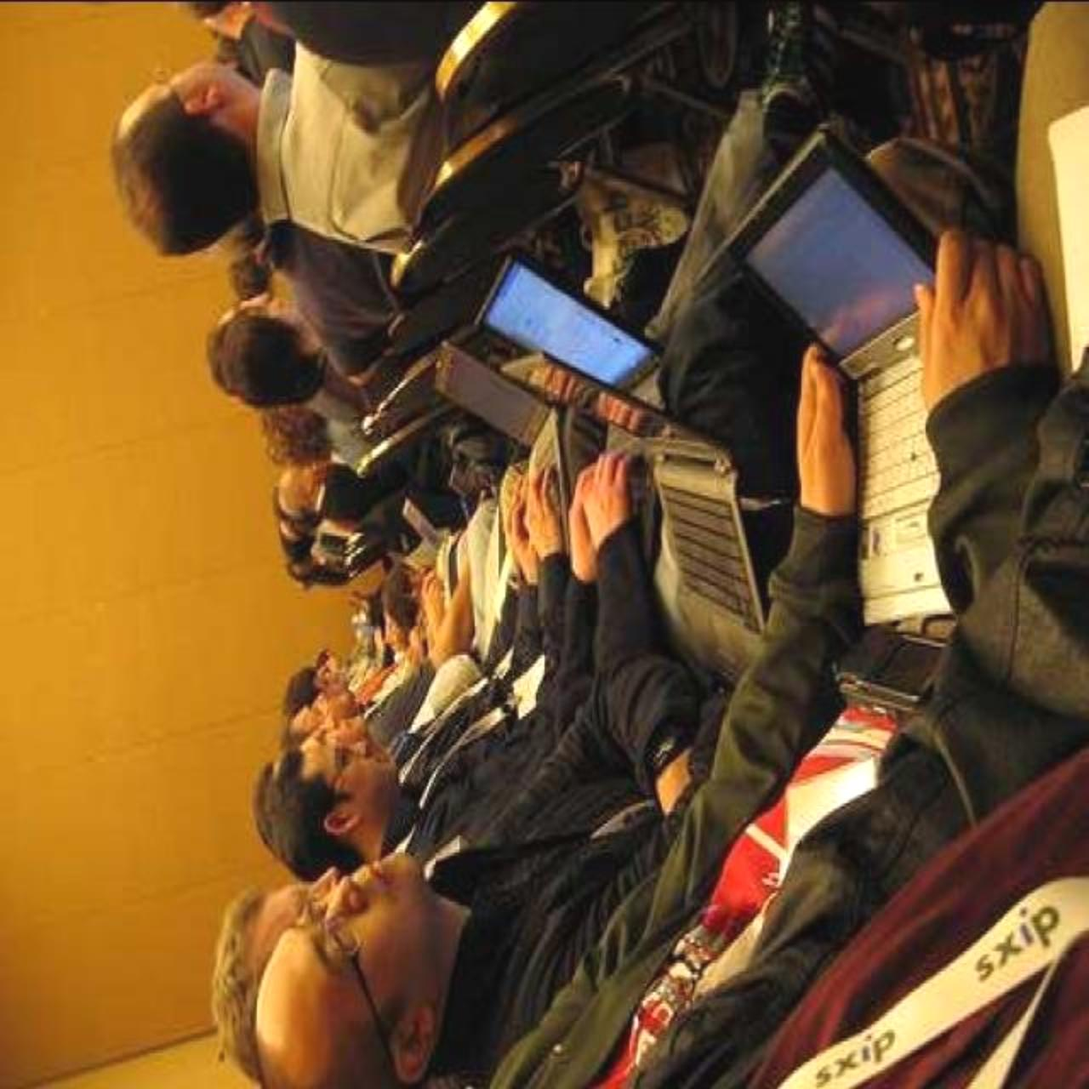laptop: (510, 255, 750, 548), (769, 174, 919, 453), (436, 345, 564, 499)
